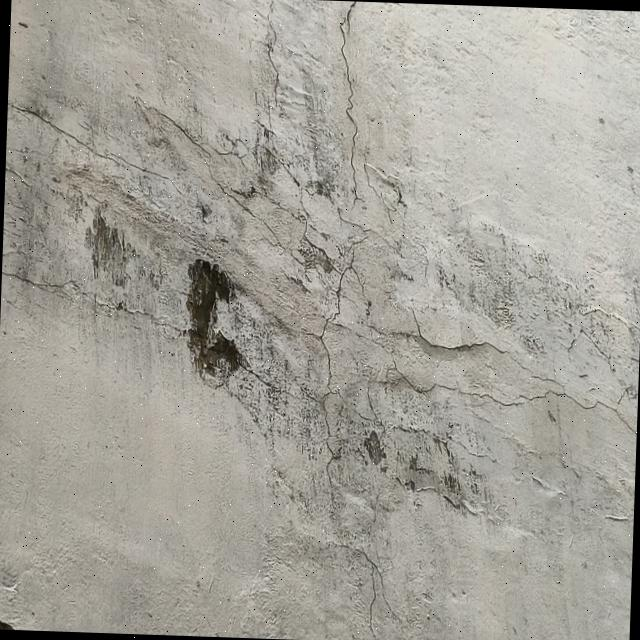crack: (1, 0, 640, 640)
stain_mould: (186, 259, 245, 378)
